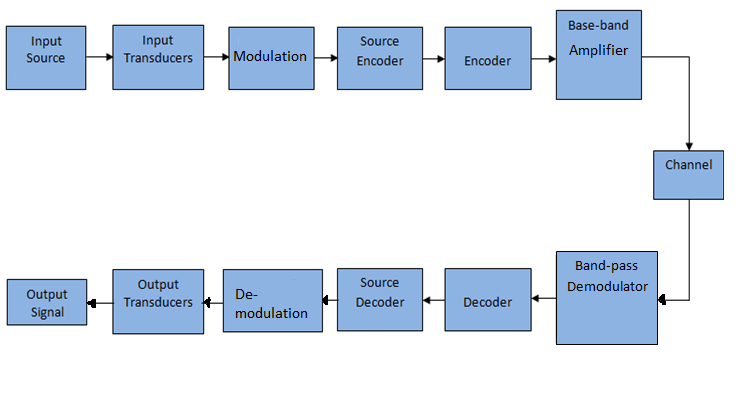arrow: (636, 53, 694, 151), (655, 196, 693, 310), (199, 292, 226, 310), (84, 297, 116, 311), (530, 292, 559, 307), (529, 53, 560, 65), (317, 291, 342, 305), (421, 293, 448, 305), (314, 51, 338, 64), (83, 51, 111, 62), (205, 52, 232, 63), (422, 54, 446, 65)
process: (553, 246, 661, 345), (553, 7, 645, 102), (219, 265, 326, 333), (109, 266, 207, 337), (109, 21, 205, 93), (332, 263, 428, 333), (442, 263, 534, 333), (334, 24, 427, 93), (1, 21, 90, 92), (226, 23, 317, 92), (442, 25, 534, 92), (2, 275, 90, 327), (650, 146, 727, 202)
text: (564, 258, 649, 295), (230, 282, 308, 320), (121, 30, 194, 67), (567, 17, 630, 58), (118, 276, 194, 309), (353, 274, 407, 310), (356, 32, 405, 68), (25, 288, 72, 318), (229, 45, 309, 62), (24, 33, 66, 64), (459, 293, 512, 309), (463, 53, 512, 68), (661, 157, 714, 170)
